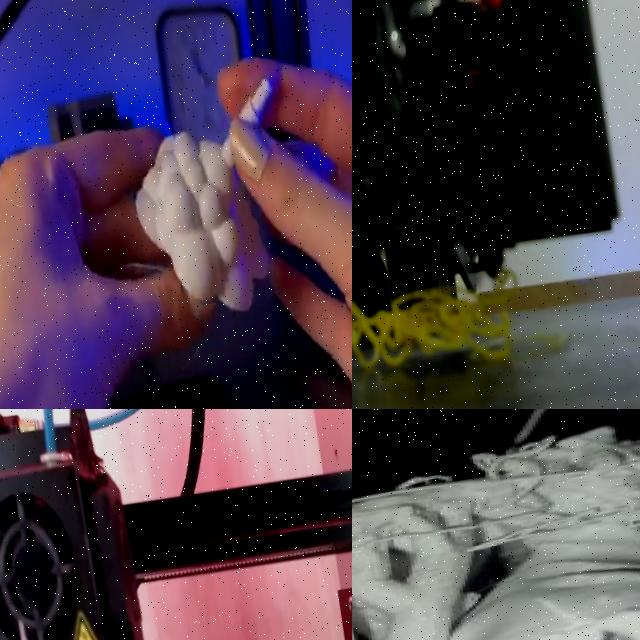spaghetti: (352, 288, 512, 370)
